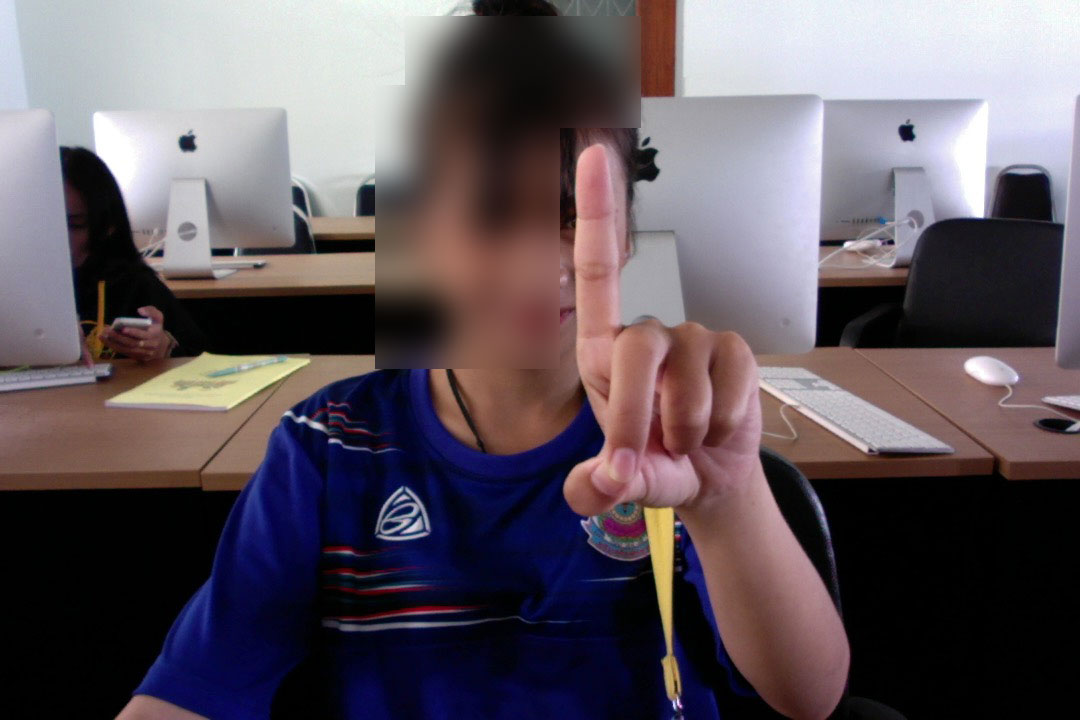dor: (549, 139, 770, 527)
